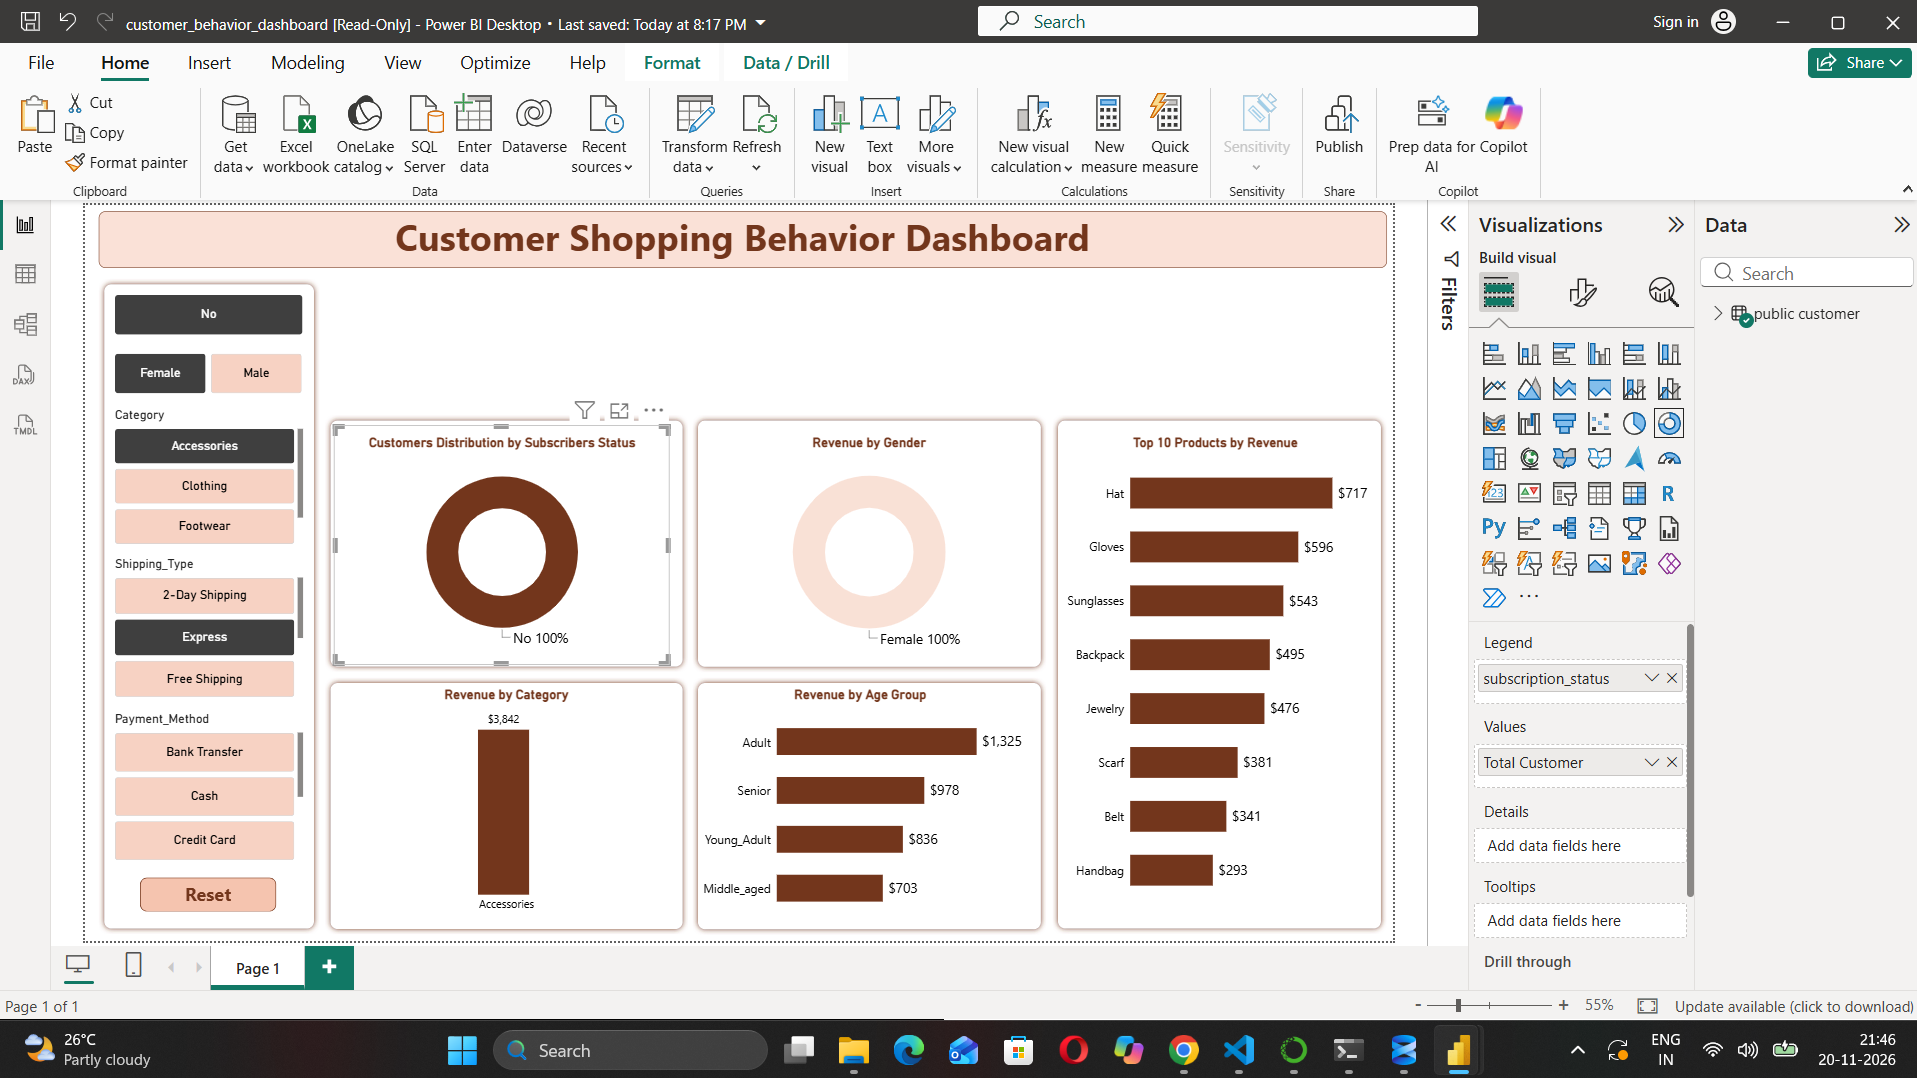

Layout of this report page (visuals, bound fields, positions):
{"tool":"powerbi","page":{"name":"Page 1","canvas":[1920,1080],"ordinal":0},"visuals":[{"type":"shape","box":[351.4,692.9,532.9,377.1],"z":0},{"type":"shape","box":[890.8,692.5,519.2,377.5],"z":1000},{"type":"shape","box":[1420,308.6,490,761.4],"z":2000},{"type":"shape","box":[890.8,308.3,519.2,377.5],"z":3000},{"type":"shape","box":[351.4,308.6,532.9,377.1],"z":4000},{"type":"cardVisual","fields":{"Data":["public customer.Total Customer","public customer.Total Revenue","public customer.Avg Purchase Amount","public customer.Avg Review Rating"]},"box":[351.4,108.6,1547.1,200],"z":5000},{"type":"textbox","box":[20,8.6,1890,82.9],"z":6000},{"type":"donutChart","title":"Customers Distribution by Subscribers Status","fields":{"Category":["public customer.subscription_status"],"Y":["public customer.Total Customer"]},"box":[364.3,322.9,494.3,351.4],"z":7000},{"type":"clusteredColumnChart","title":"Revenue by Category","fields":{"Category":["public customer.category"],"Y":["public customer.Total Revenue"]},"box":[364.3,692.9,507.1,365.7],"z":8000},{"type":"clusteredBarChart","title":"Revenue by Age Group","fields":{"Category":["public customer.age_group"],"Y":["public customer.Total Revenue"]},"box":[884.3,692.9,507.1,377.1],"z":9000},{"type":"donutChart","title":"Revenue by Gender","fields":{"Category":["public customer.gender"],"Y":["public customer.Total Revenue"]},"box":[891.4,322.9,518.6,351.4],"z":10000},{"type":"clusteredBarChart","title":"Top 10 Products by Revenue","fields":{"Category":["public customer.item_purchased"],"Y":["public customer.Total Revenue"]},"box":[1420,322.9,478.6,725.7],"z":11000},{"type":"shape","box":[20,108.5,323.8,961.5],"z":11001},{"type":"advancedSlicerVisual","fields":{"Values":["public customer.subscription_status"]},"box":[44.3,132.9,275.7,58.6],"z":11002},{"type":"advancedSlicerVisual","fields":{"Values":["public customer.gender"]},"box":[44.3,218.6,275.7,58.6],"z":11003},{"type":"advancedSlicerVisual","title":"Category","fields":{"Values":["public customer.category"]},"box":[44,298,276,201],"z":11004},{"type":"advancedSlicerVisual","title":"Shipping_Type","fields":{"Values":["public customer.shipping_type"]},"box":[44,515,276,208],"z":11005},{"type":"advancedSlicerVisual","title":"Payment_Method","fields":{"Values":["public customer.payment_method"]},"box":[44,743,276,218],"z":11006},{"type":"actionButton","box":[81.4,987.1,200,50],"z":11007}]}

Visuals, with their boxes on the page's 1920x1080 design canvas (x1, y1, x2, y2). These are canvas units, not pixel positions in the 1917x1078 screenshot, which may show the page scaled, cropped or inside an application window:
shape: bbox(351, 693, 884, 1070)
shape: bbox(891, 692, 1410, 1070)
shape: bbox(1420, 309, 1910, 1070)
shape: bbox(891, 308, 1410, 686)
shape: bbox(351, 309, 884, 686)
cardVisual - public customer.Total Customer x public customer.Total Revenue: bbox(351, 109, 1898, 309)
textbox: bbox(20, 9, 1910, 92)
"Customers Distribution by Subscribers Status" donutChart: bbox(364, 323, 859, 674)
"Revenue by Category" clusteredColumnChart: bbox(364, 693, 871, 1059)
"Revenue by Age Group" clusteredBarChart: bbox(884, 693, 1391, 1070)
"Revenue by Gender" donutChart: bbox(891, 323, 1410, 674)
"Top 10 Products by Revenue" clusteredBarChart: bbox(1420, 323, 1899, 1049)
shape: bbox(20, 108, 344, 1070)
advancedSlicerVisual - public customer.subscription_status: bbox(44, 133, 320, 192)
advancedSlicerVisual - public customer.gender: bbox(44, 219, 320, 277)
"Category" advancedSlicerVisual: bbox(44, 298, 320, 499)
"Shipping_Type" advancedSlicerVisual: bbox(44, 515, 320, 723)
"Payment_Method" advancedSlicerVisual: bbox(44, 743, 320, 961)
actionButton: bbox(81, 987, 281, 1037)
